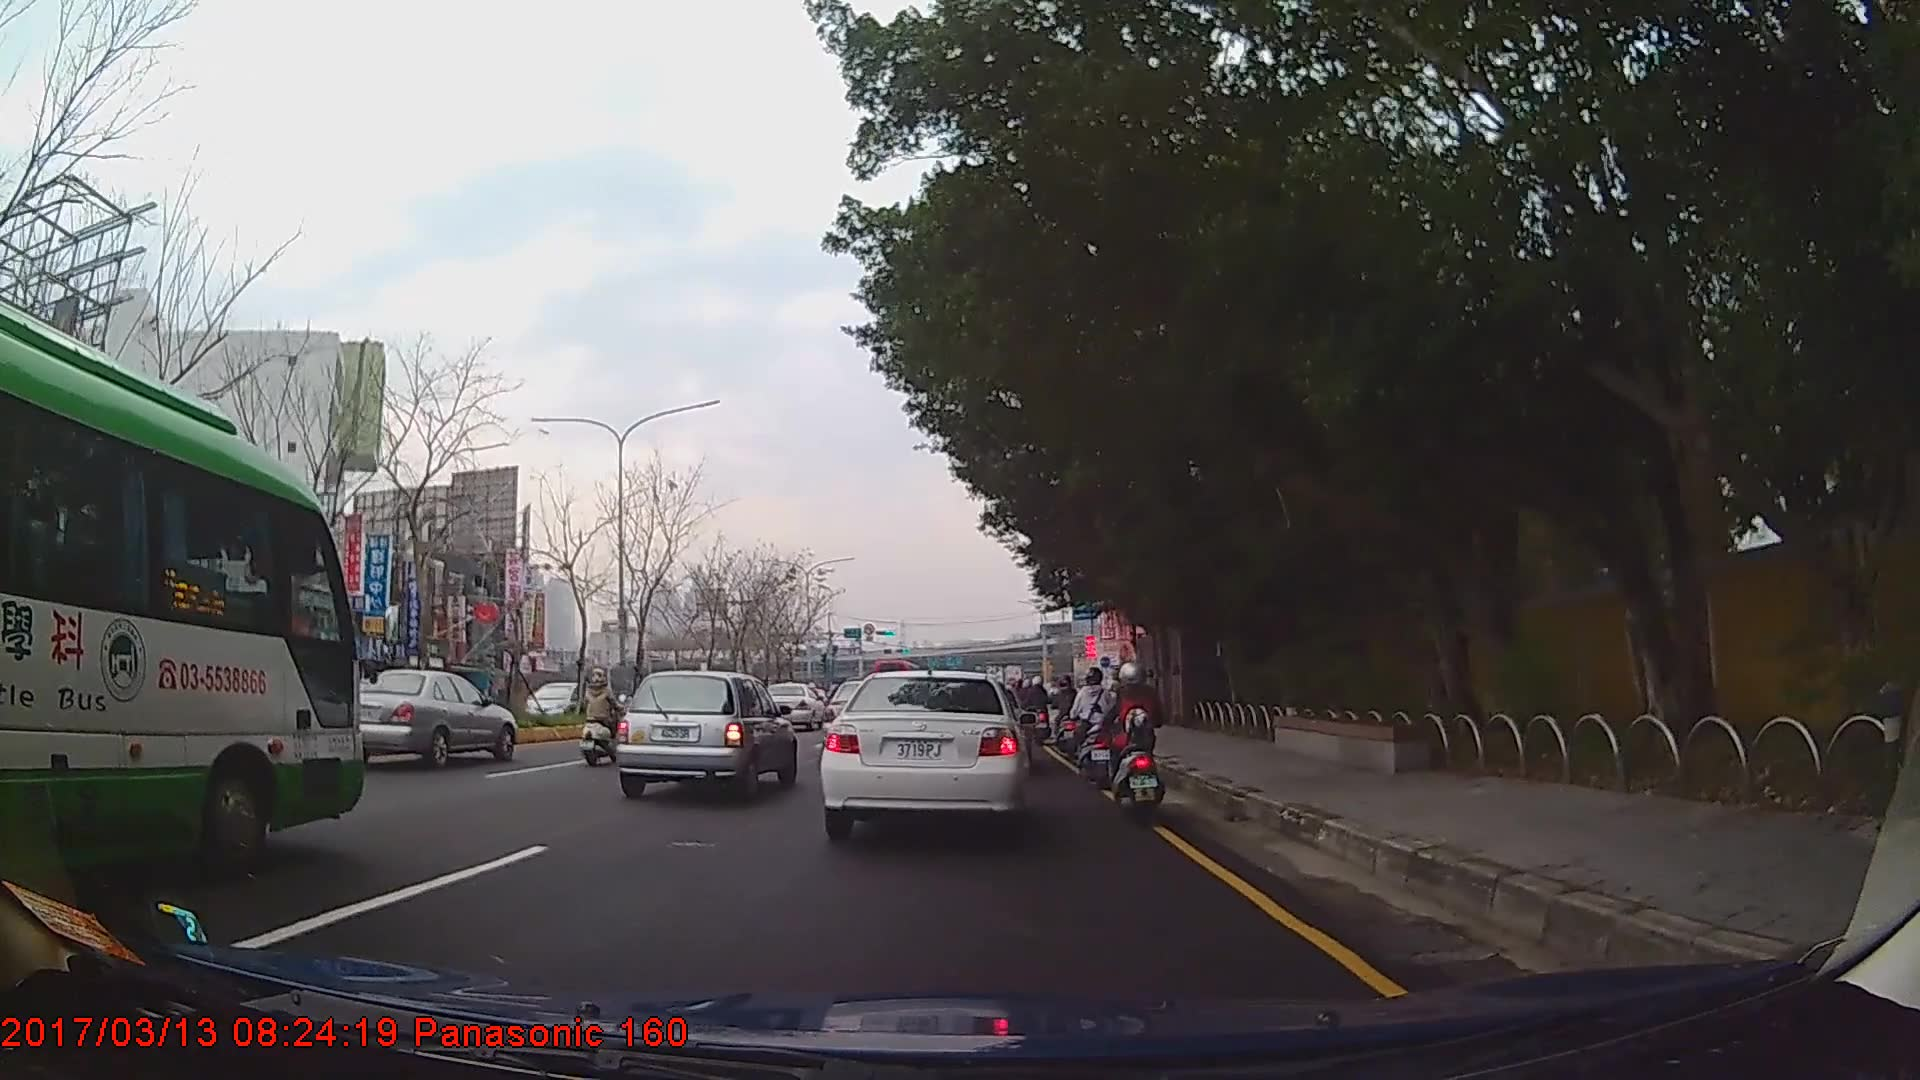rider: (1104, 661, 1164, 820), (1069, 669, 1114, 781), (587, 671, 626, 770), (1053, 678, 1080, 747)
vehicle: (0, 297, 362, 887), (819, 670, 1030, 846), (616, 670, 795, 800), (344, 669, 516, 768), (524, 681, 597, 729), (765, 681, 821, 727)
